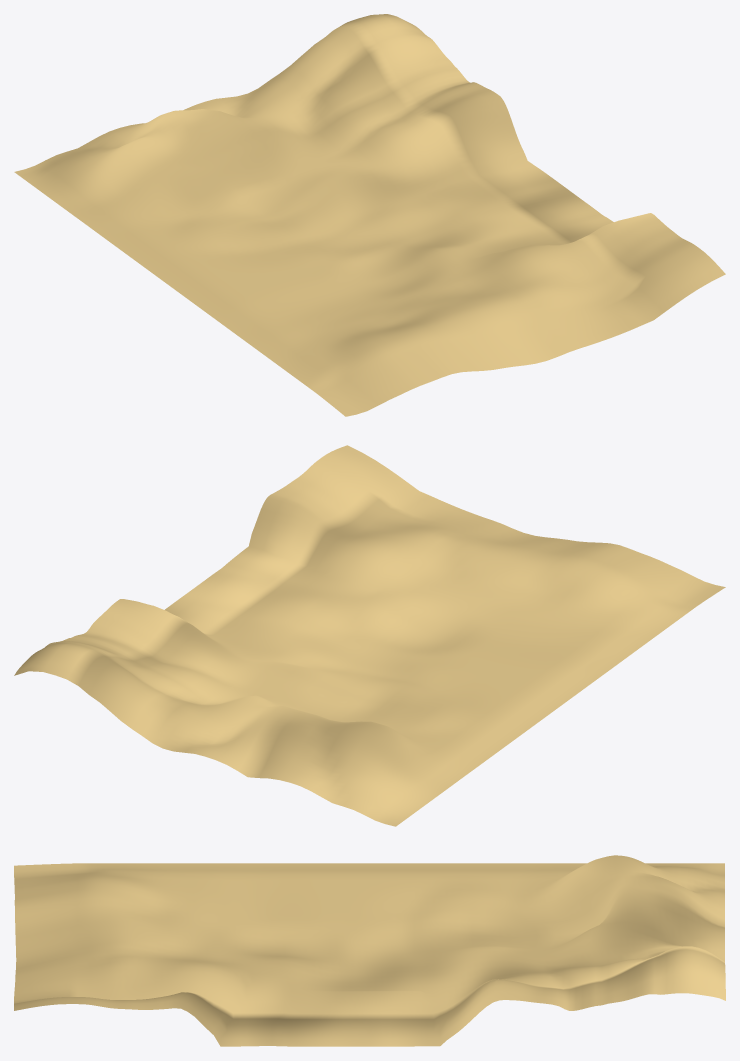
File: beach_final_version.fbx
The picture shows the model from 3 angles, top to bottom: view 1: azimuth 30°, elevation 25°; view 2: azimuth 150°, elevation 25°; view 3: azimuth 270°, elevation 25°; orthographic projection. The views are drawn at different scales.
Visible parts, largest first — view 1: Beach; view 2: Beach; view 3: Beach.
Boxes of the visible parts, x1,y1,x2,y2 form: Beach: [14, 14, 725, 416]; Beach: [14, 445, 725, 826]; Beach: [14, 855, 725, 1046].
Bounding box in the file's own units: 125 × 26.15 × 188.
